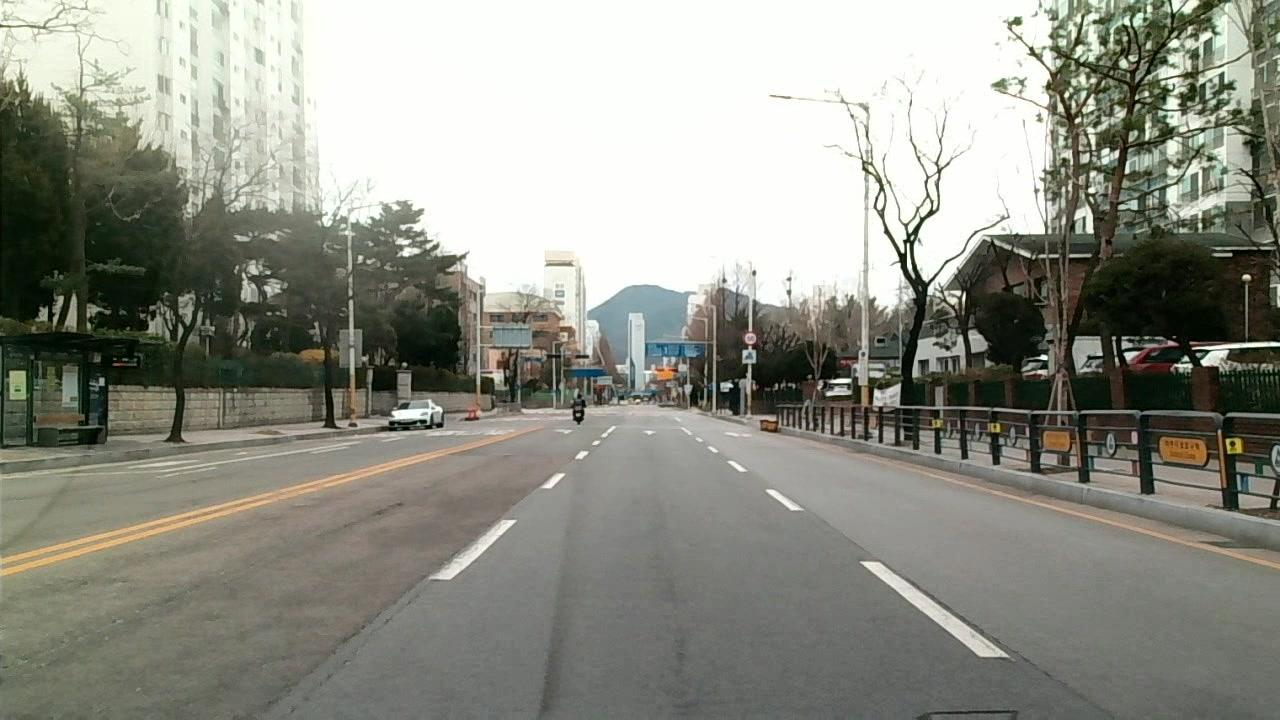banner: (239, 583, 426, 720), (871, 561, 1051, 673), (342, 498, 411, 528)
